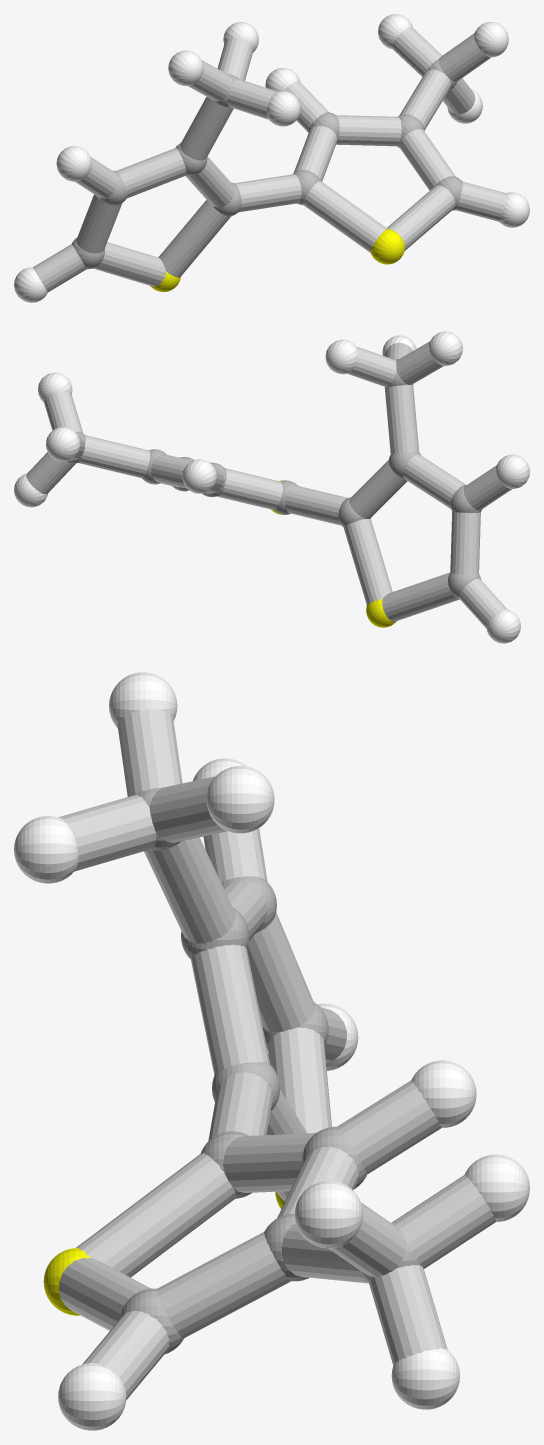
The model's file is color.glb.
3 renders of one model, top to bottom at view 1: azimuth 30°, elevation 25°; view 2: azimuth 150°, elevation 25°; view 3: azimuth 270°, elevation 25°, orthographic. The views are drawn at different scales.
Parts seen in each view (by area): view 1: grp7965, grp3621, grp1, grp7241; view 2: grp7965, grp3621, grp1, grp7241; view 3: grp7965, grp3621, grp1, grp7241.
Boxes of the visible parts, left/top/right/bottom form: grp7965: left=32, top=27, right=506, bottom=292; grp3621: left=14, top=14, right=529, bottom=302; grp1: left=72, top=59, right=462, bottom=269; grp7241: left=150, top=229, right=404, bottom=292; grp7965: left=26, top=341, right=511, bottom=628; grp3621: left=14, top=331, right=529, bottom=643; grp1: left=67, top=359, right=482, bottom=599; grp7241: left=270, top=480, right=396, bottom=627; grp7965: left=58, top=709, right=495, bottom=1400; grp3621: left=14, top=672, right=529, bottom=1430; grp1: left=120, top=787, right=420, bottom=1354; grp7241: left=43, top=1191, right=284, bottom=1315.
Bounding box in the file's own units: 9.53 × 5.1 × 4.53.
